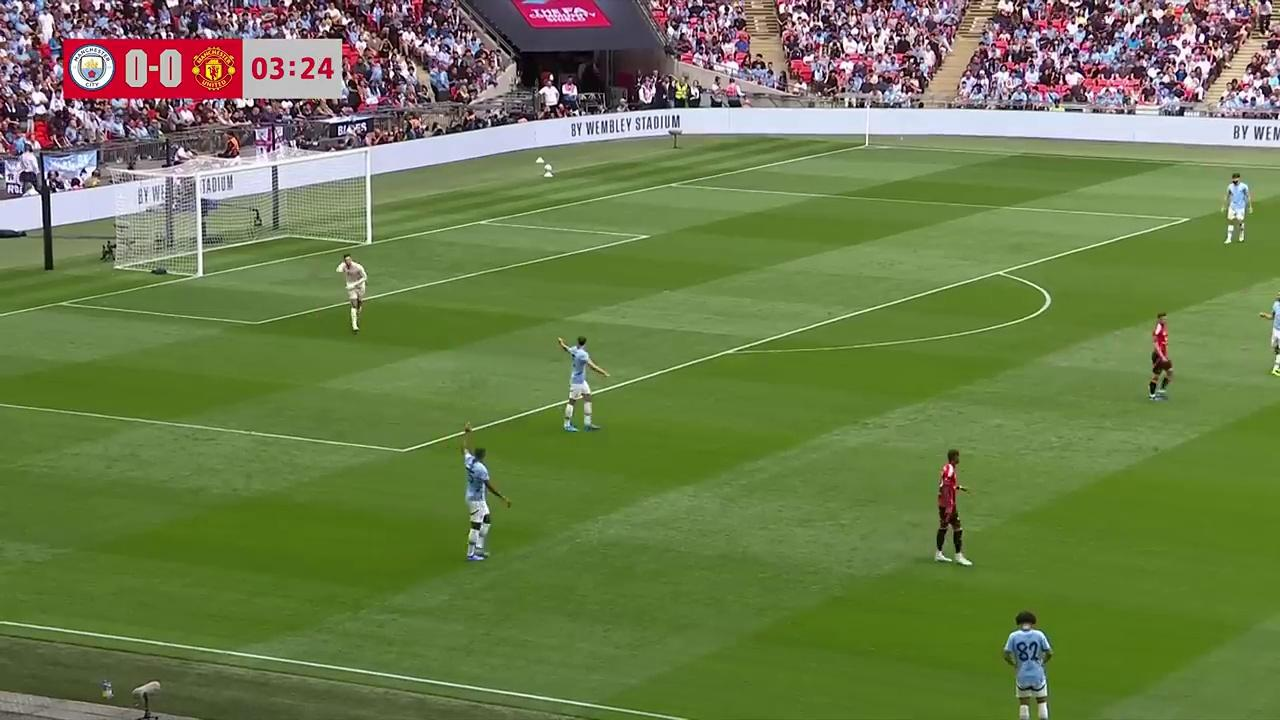player: (463, 446, 511, 562), (1002, 609, 1052, 720), (934, 449, 973, 566), (561, 338, 605, 432), (336, 252, 373, 332), (1148, 312, 1173, 400), (1223, 173, 1251, 243), (1259, 291, 1280, 375)
